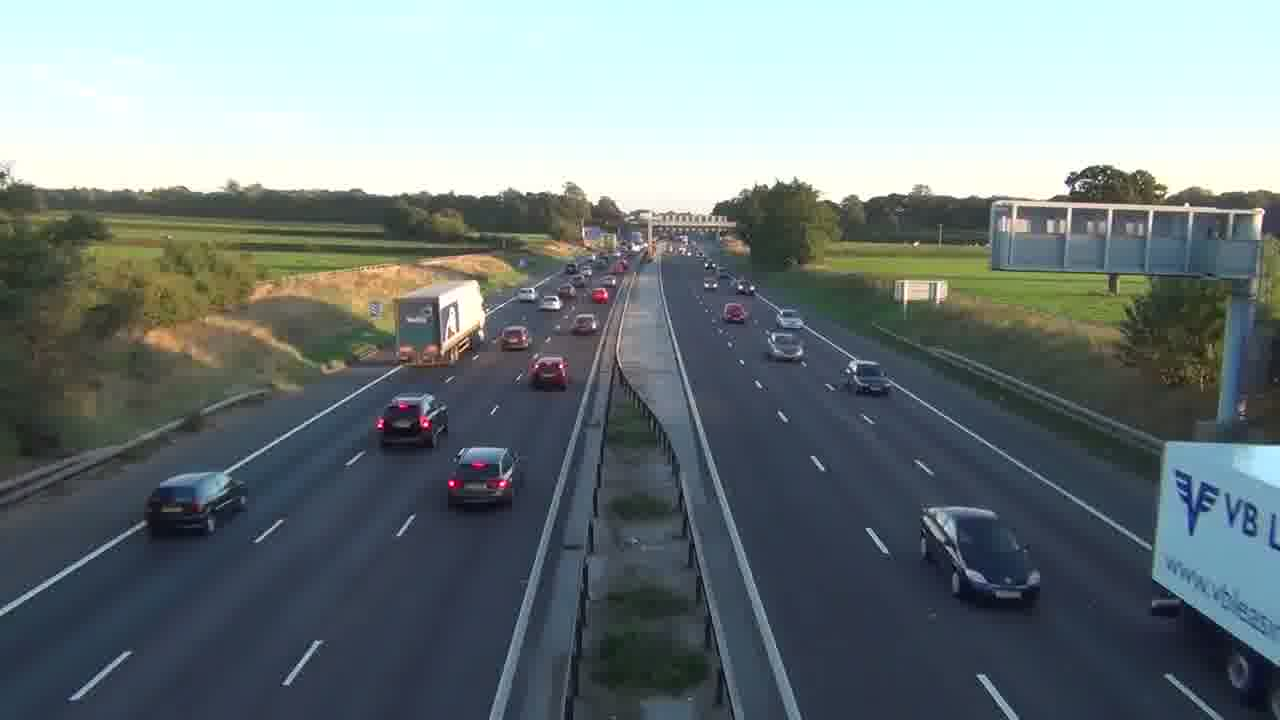car: (446, 446, 517, 510), (843, 359, 891, 396), (527, 353, 570, 390), (765, 329, 805, 362), (496, 325, 530, 351), (777, 306, 805, 329), (572, 313, 598, 334), (538, 294, 561, 310)
truck: (919, 504, 1042, 607), (397, 279, 485, 367), (143, 470, 248, 536)
